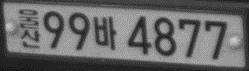4: (127, 15, 152, 55)
7: (177, 18, 201, 56), (204, 20, 227, 59)
8: (153, 15, 176, 57)
9: (42, 9, 65, 48), (67, 11, 90, 50)
바: (93, 15, 117, 50)
울산_V: (17, 8, 41, 48)
